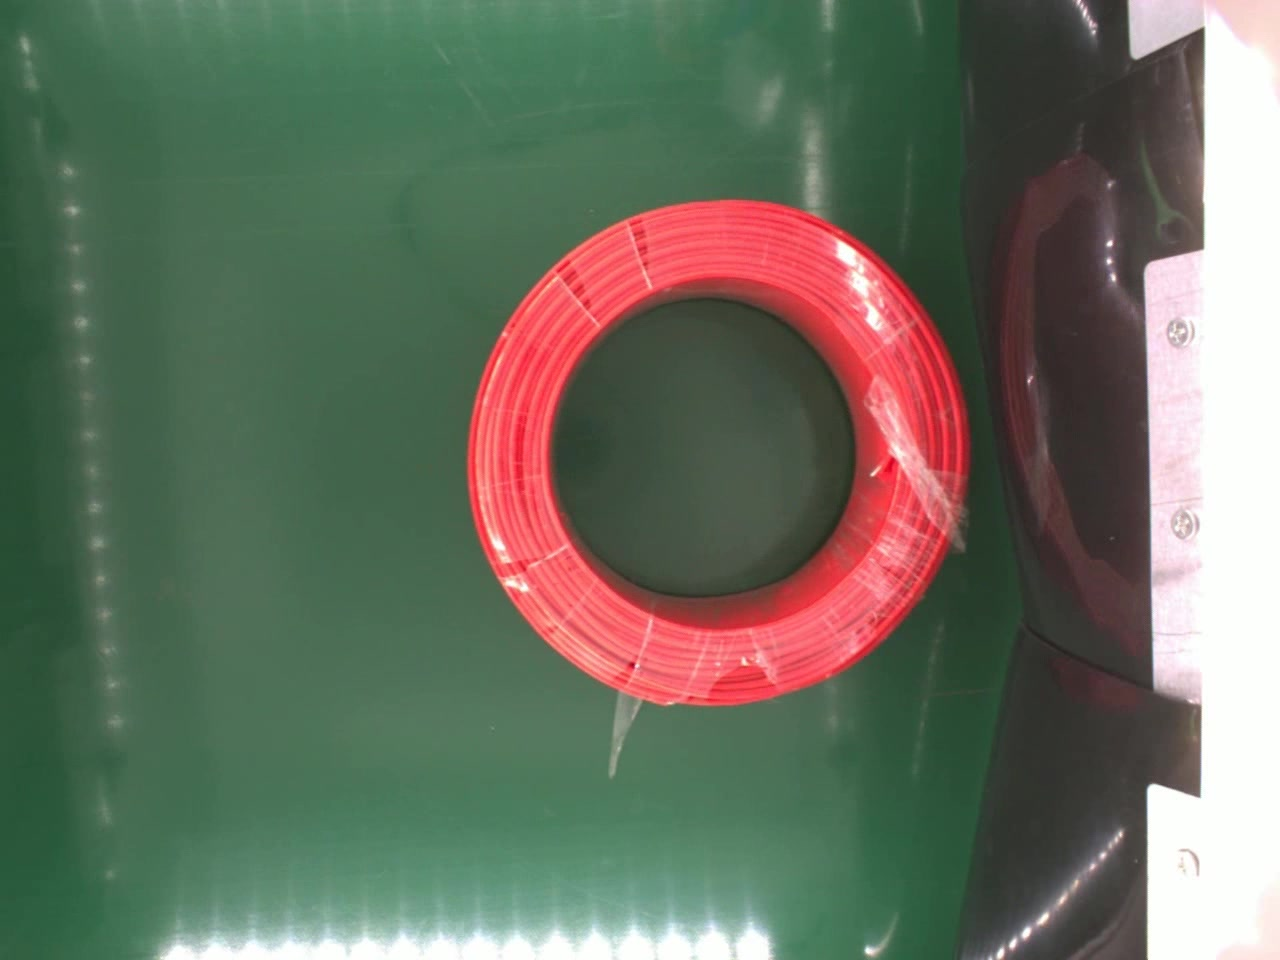red: (463, 200, 973, 709)
